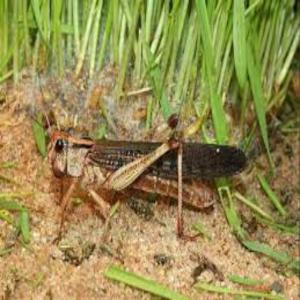locust: (46, 119, 256, 212)
